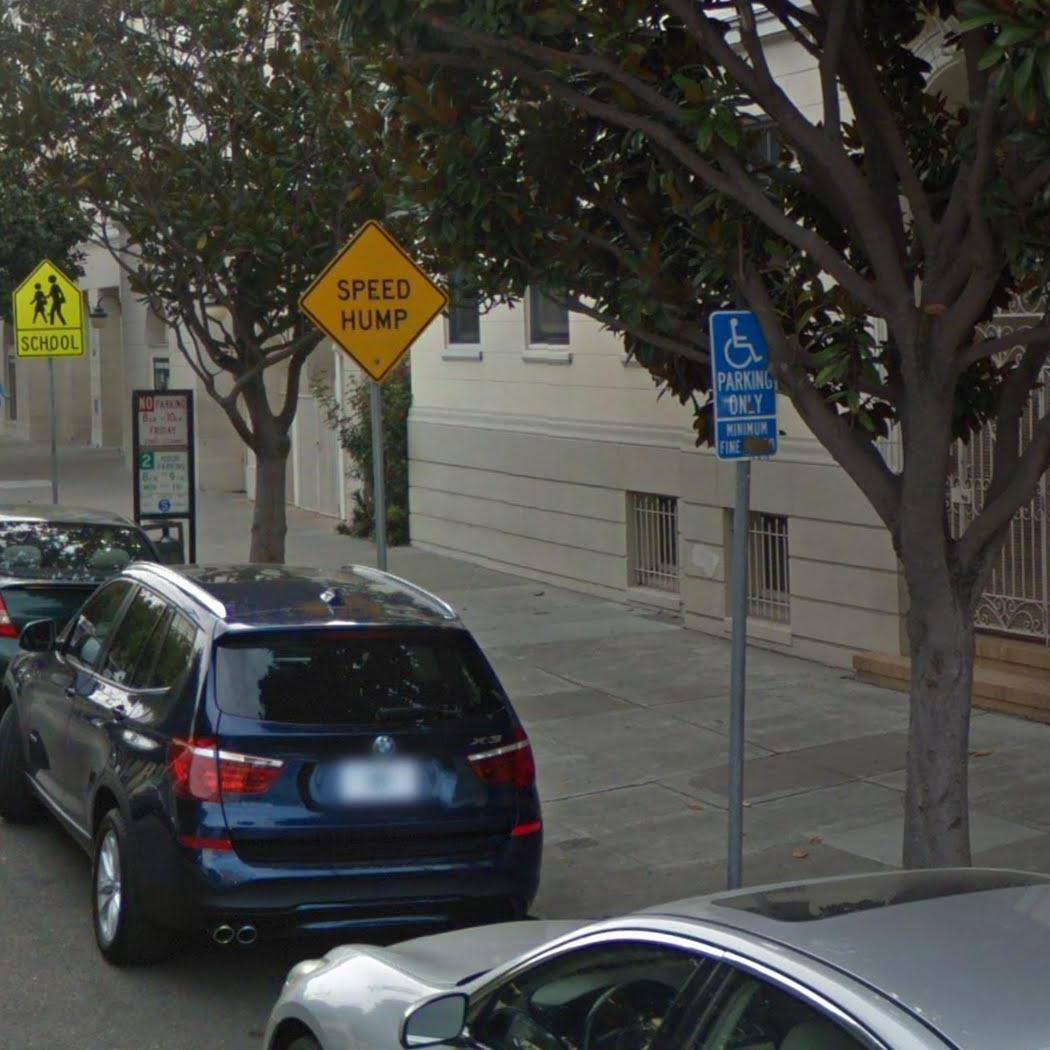2 Hour Parking: (132, 447, 198, 512)
Disabled Parking Only: (707, 308, 779, 461)
No Parking: (132, 389, 195, 448)
